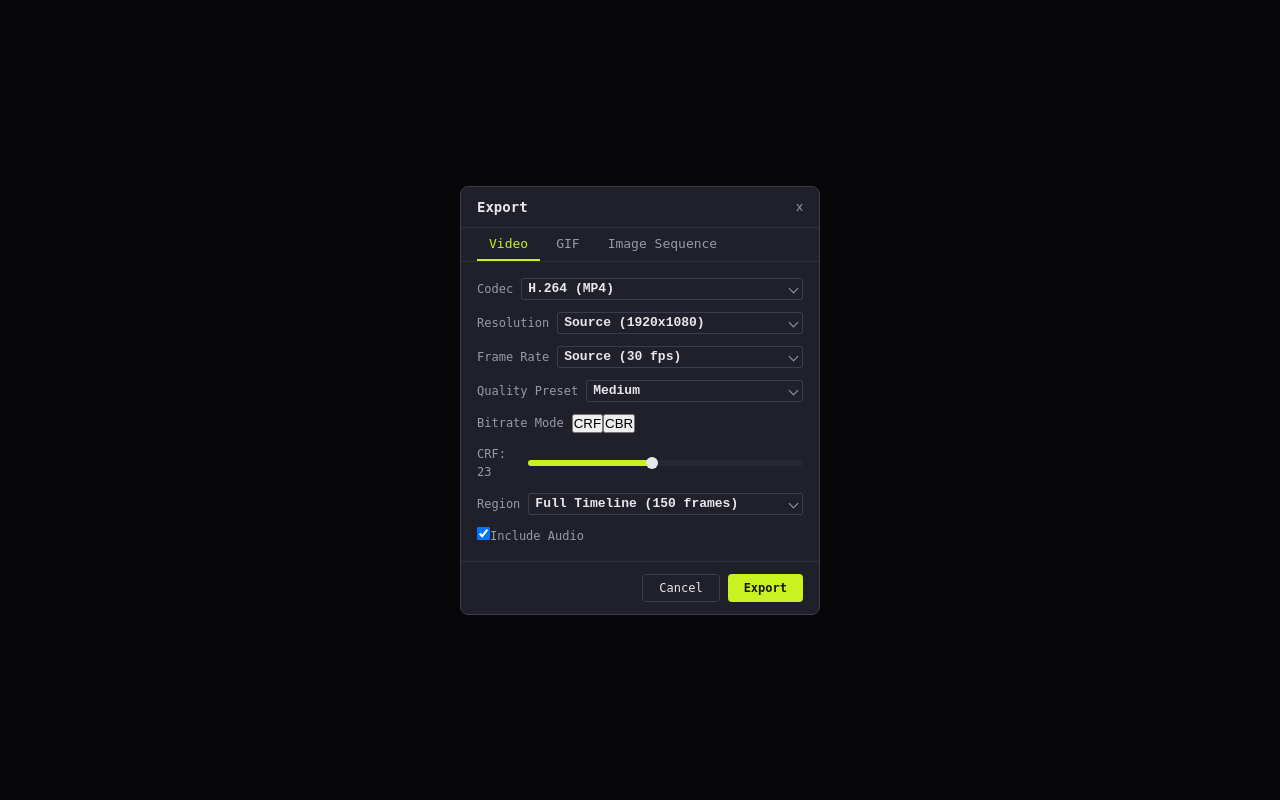
Export — Dialog Structure › selecting custom resolution shows dimension inputs
Note: Find the resolution select (second select after codec)
Select "Custom" in the dropdown next to "Resolution": coordinates (680, 322) 557,312 -> 803,334
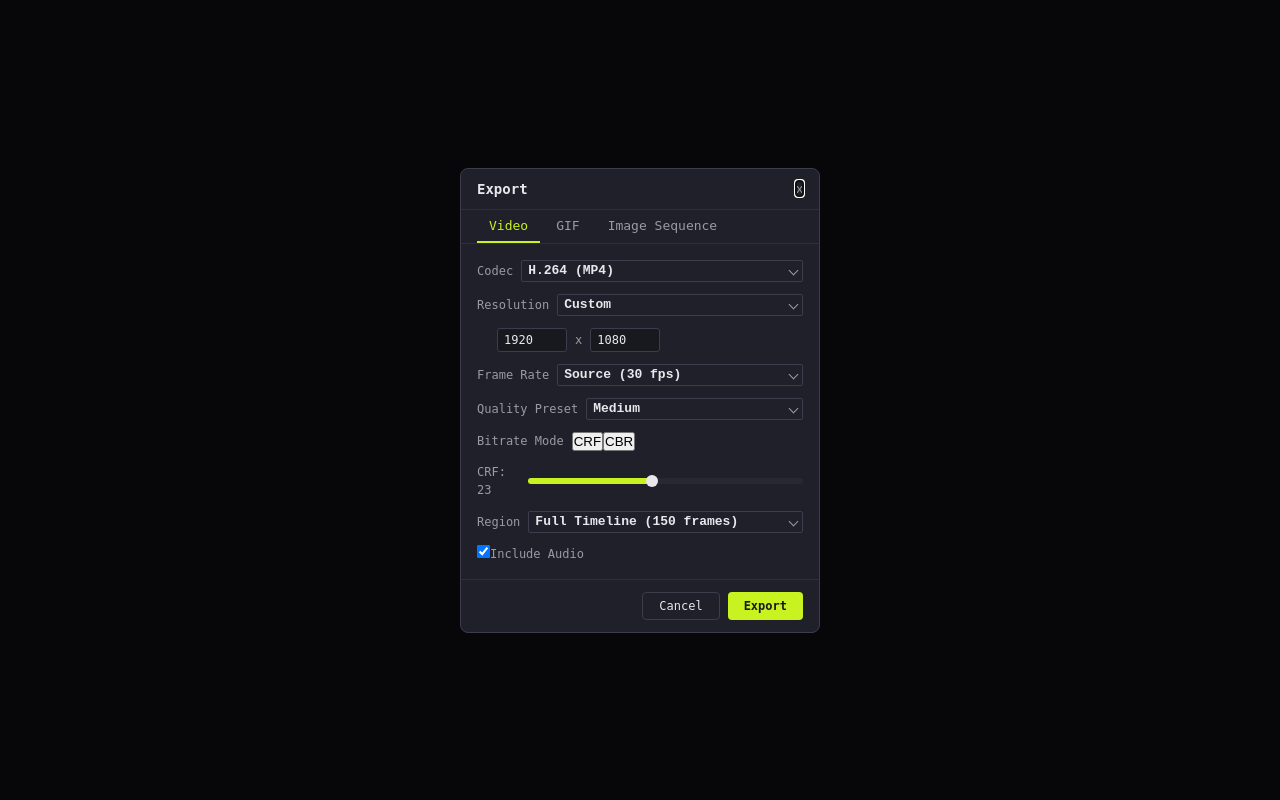
Now the number of number fields with class "export-dialog__res-input" is 2, box 497,328 -> 567,352; 590,328 -> 660,352
